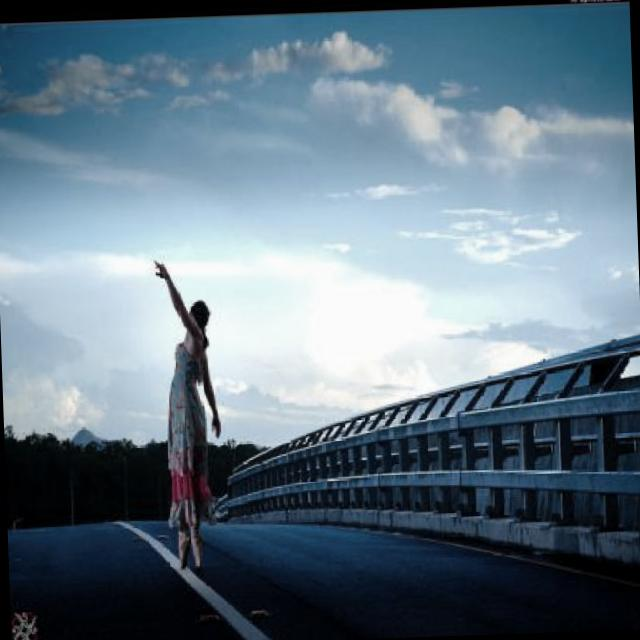Person: (148, 250, 222, 560)
